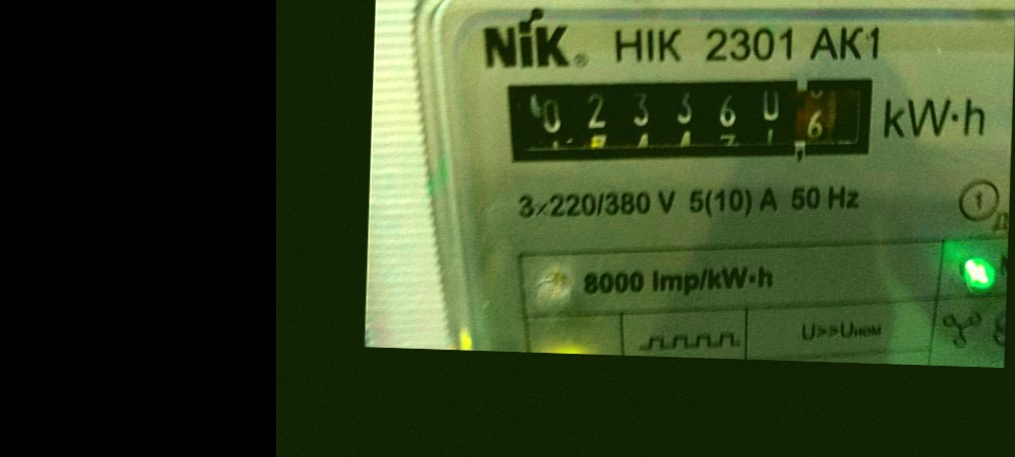0: (539, 93, 565, 136), (759, 85, 783, 123)
2: (583, 88, 610, 129)
3: (630, 88, 652, 129), (672, 87, 695, 126)
6: (714, 89, 741, 131), (805, 106, 828, 142)
screen: (483, 52, 888, 183)
